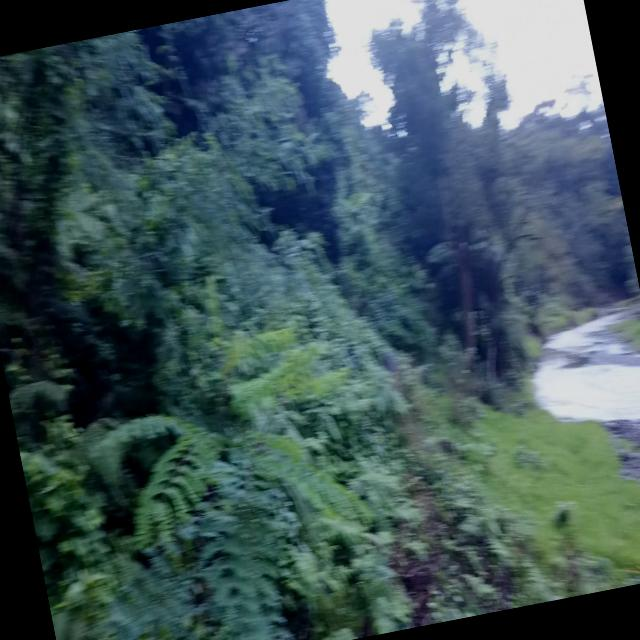Mysore-Thorn-Weed: (0, 267, 388, 640)
